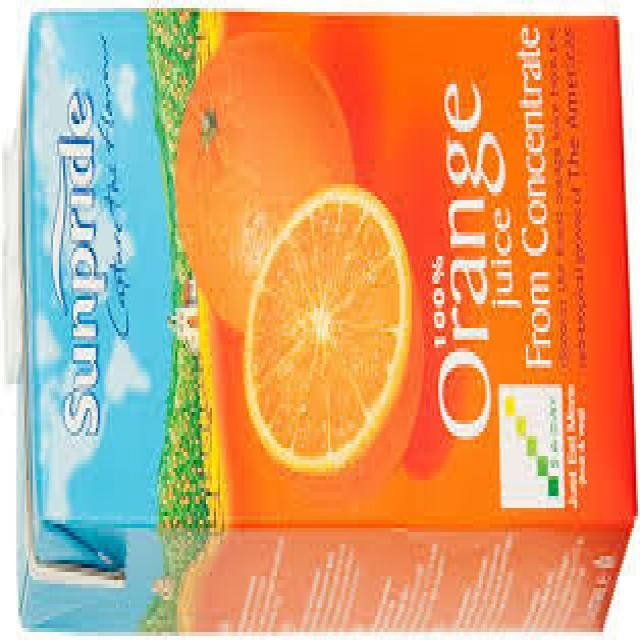non_white_jug: (1, 0, 639, 638)
